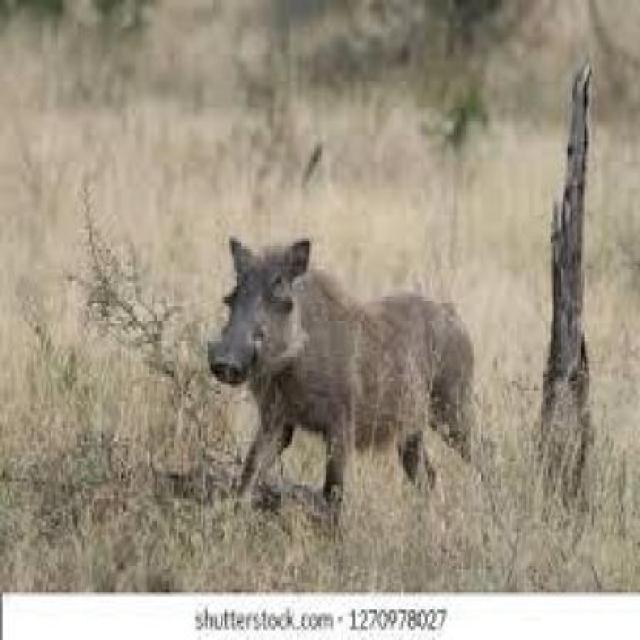wildboar: (202, 230, 482, 533)
